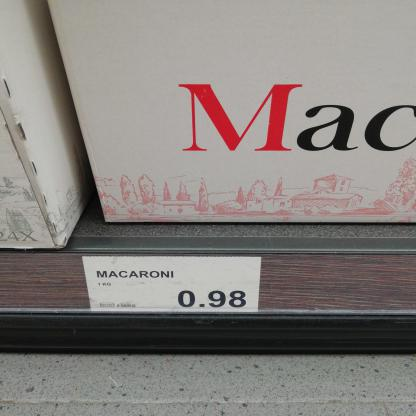prtg: (84, 258, 261, 313)
